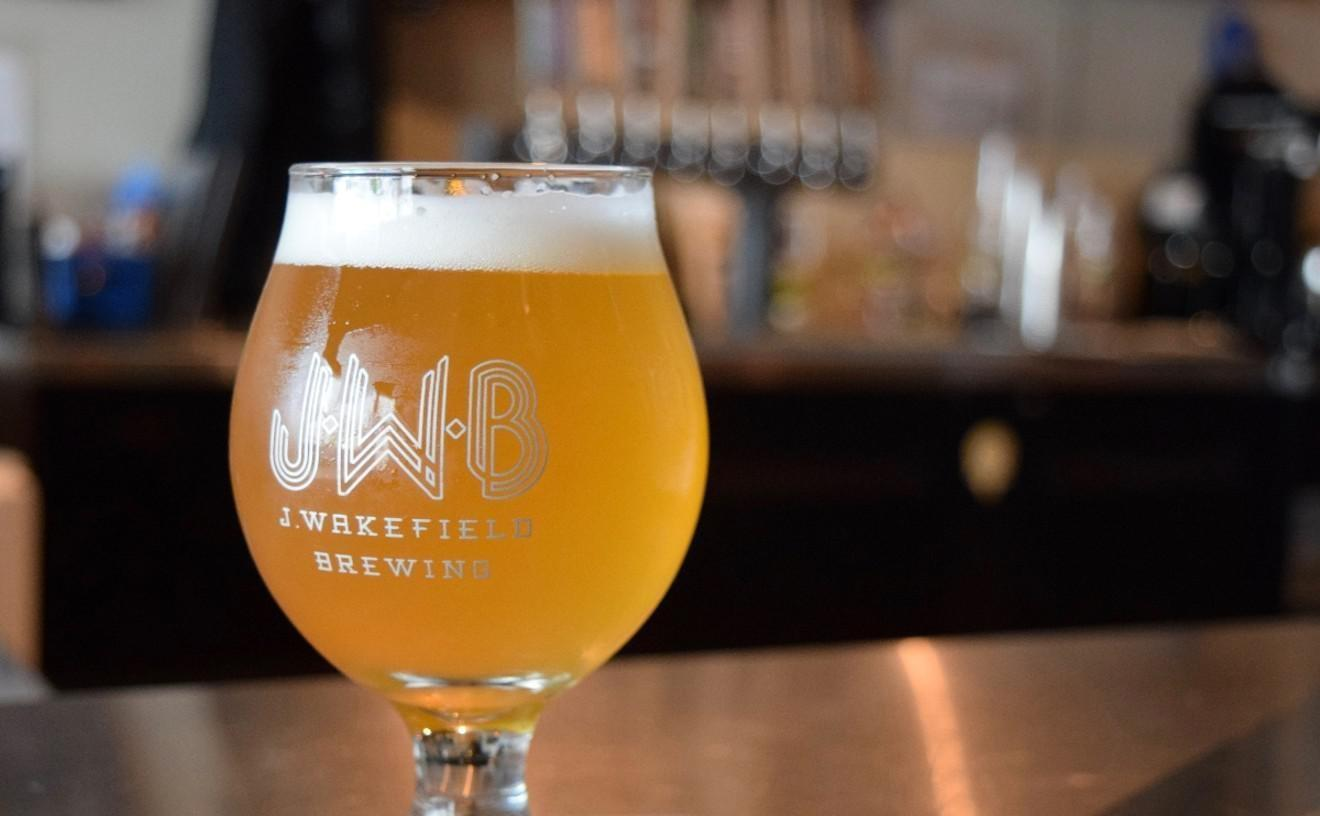glass-wine: (226, 157, 713, 813)
